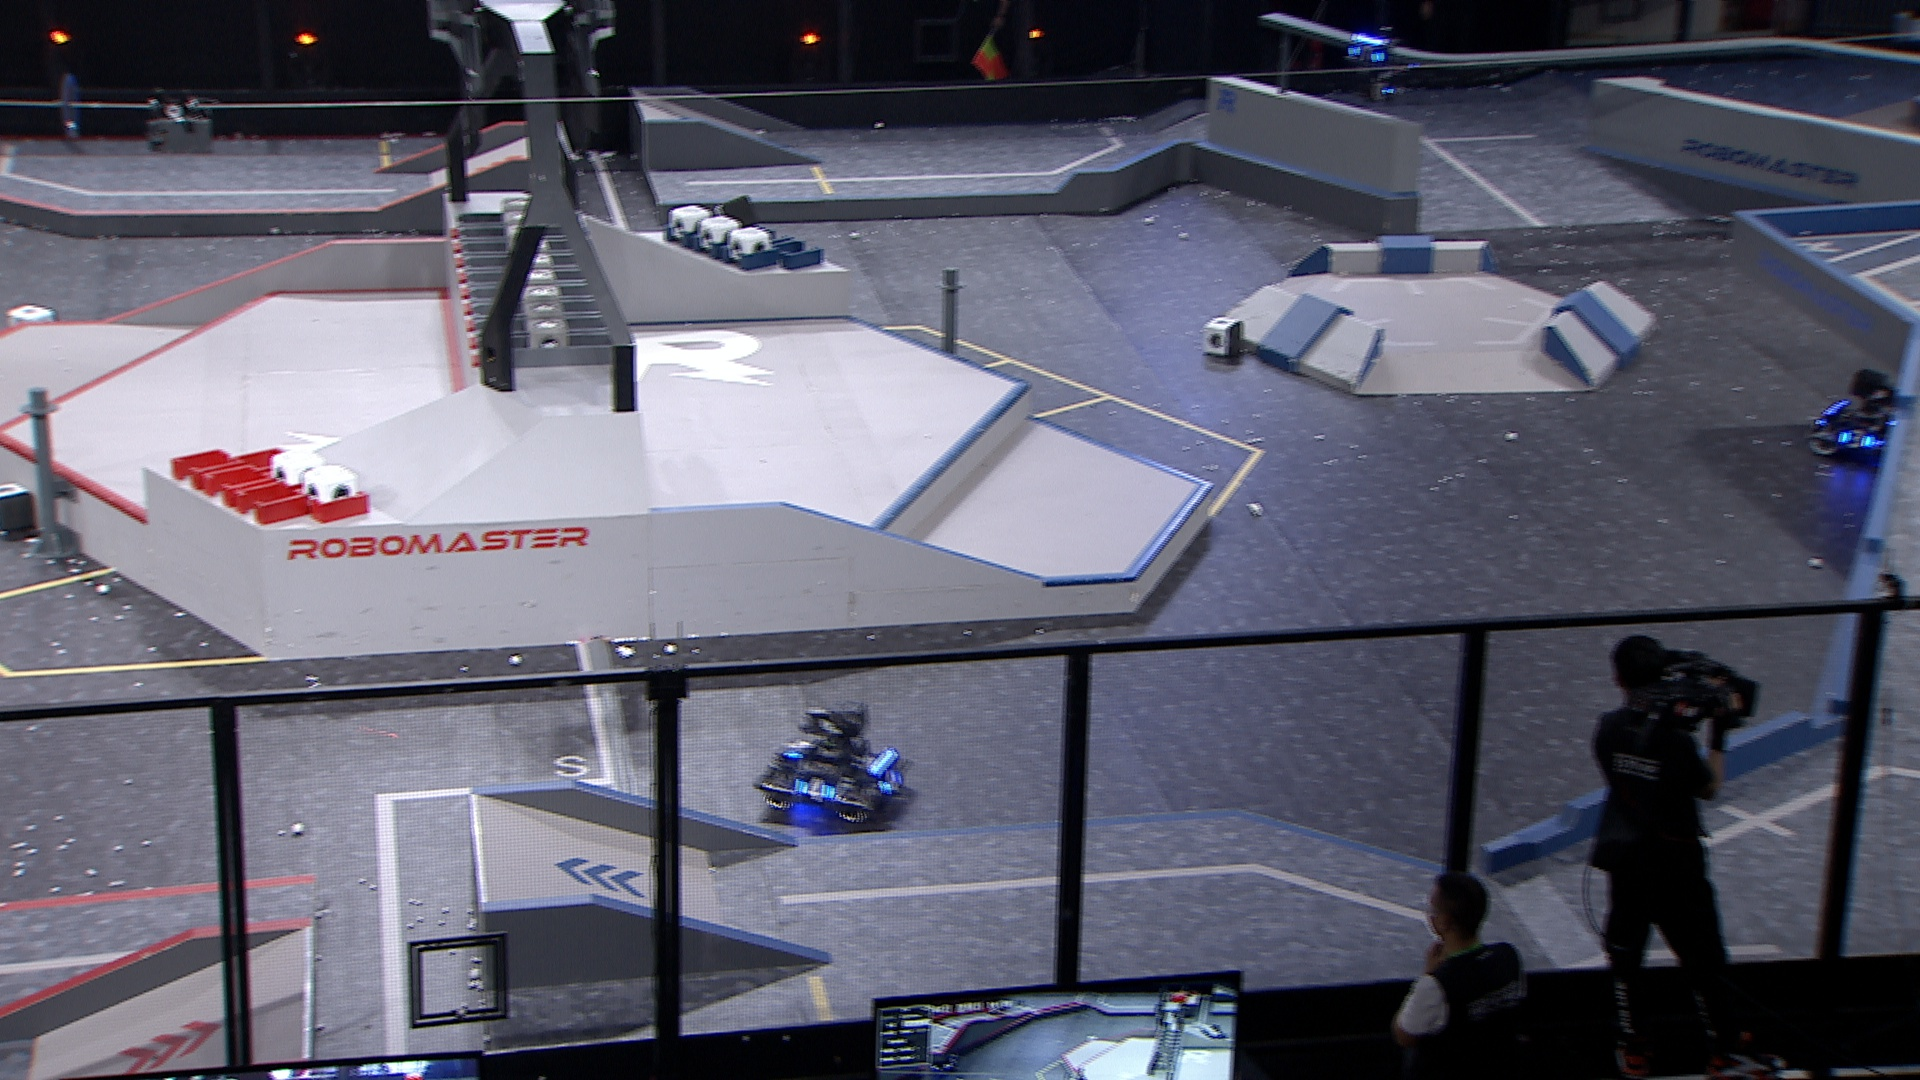armor: (794, 774, 839, 803), (1836, 425, 1878, 451), (1346, 44, 1385, 69), (874, 766, 905, 796), (779, 737, 816, 760)
car: (752, 698, 911, 827), (1807, 365, 1920, 467)
watcher: (1342, 24, 1414, 104)
